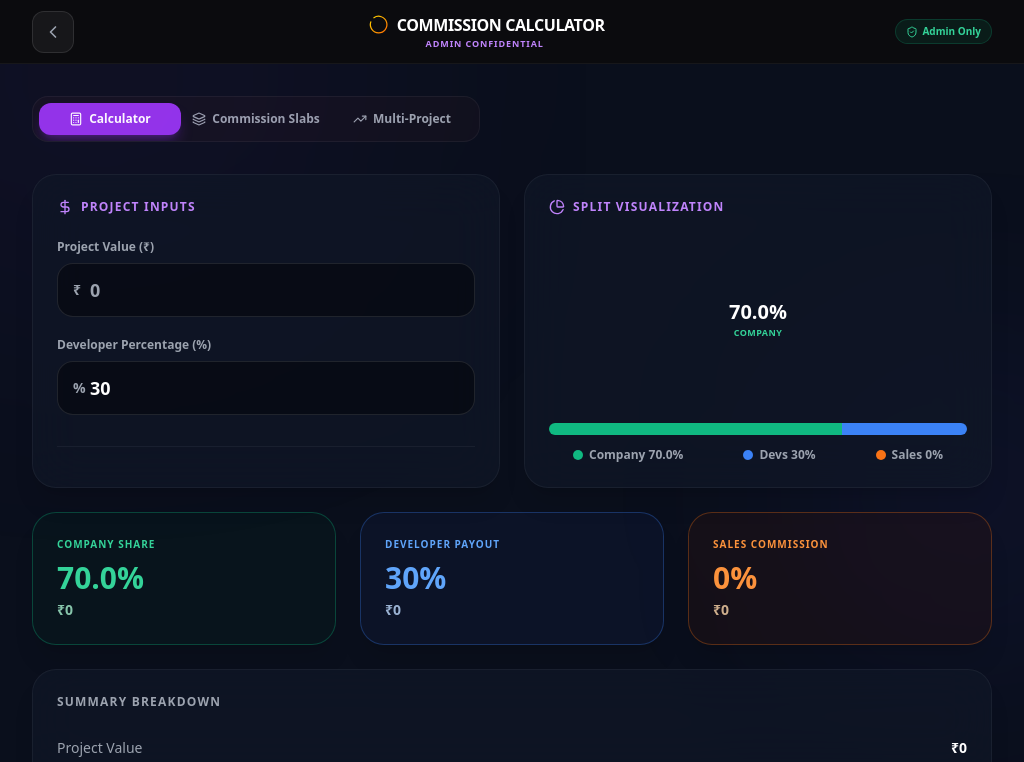
CommissionCalculatorPage › switches to Multi-Project tab and calculates forecast
The image size is (1024, 762).
Note: Enter project value first
Type "100000" into the number field with placeholder "0".
click(266, 290); type("100000")  # box [57,263,475,317]
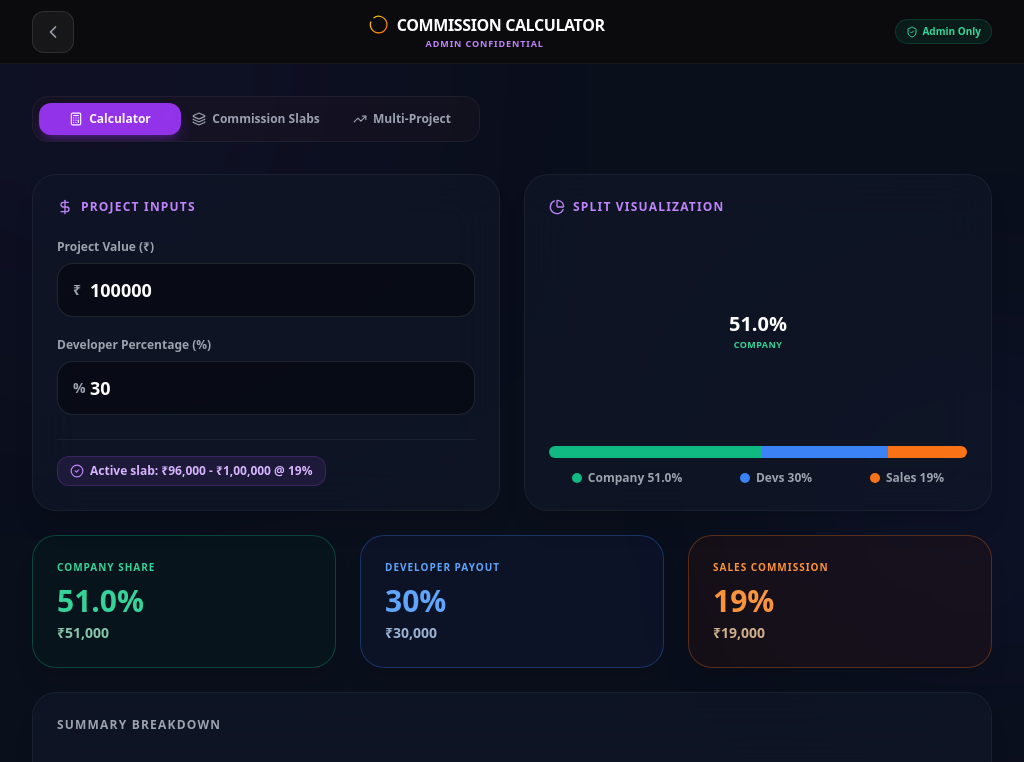
Click the button "Multi-Project".
click(402, 119)  # box [331,103,473,135]
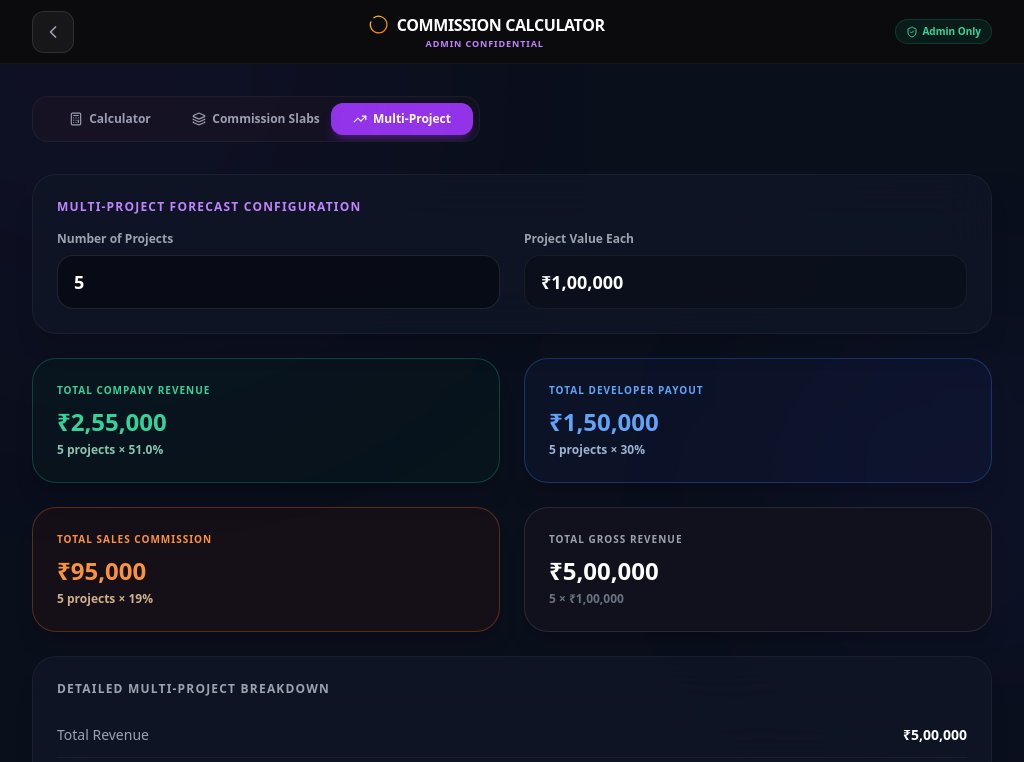
Check: the number field showing "5" is shown, box [57,255,500,309]
Check: the heading "Multi-Project Forecast Configuration" is shown, box [57,198,361,215]
